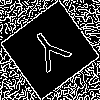Y: (25, 24, 78, 81)
